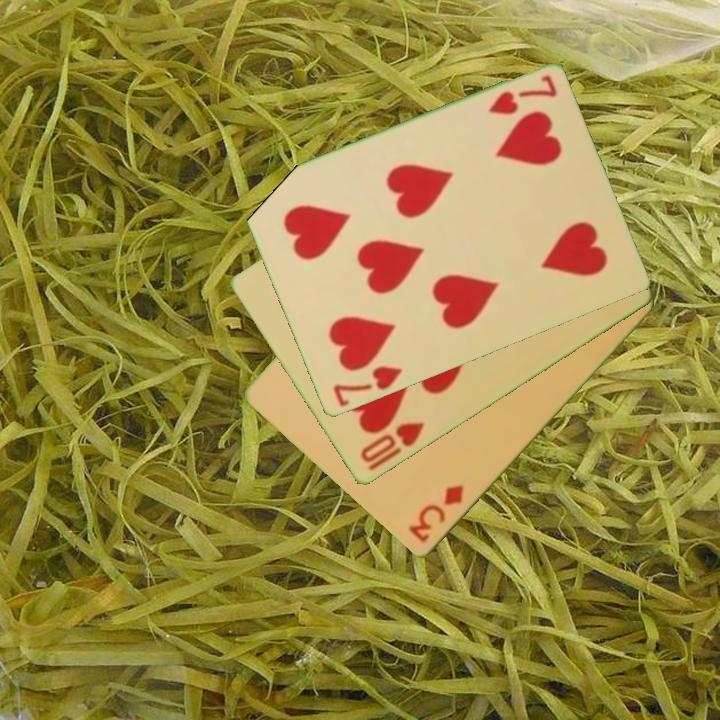10h: (356, 419, 428, 467)
3d: (405, 481, 467, 546)
7h: (329, 362, 405, 410), (484, 72, 560, 118)
